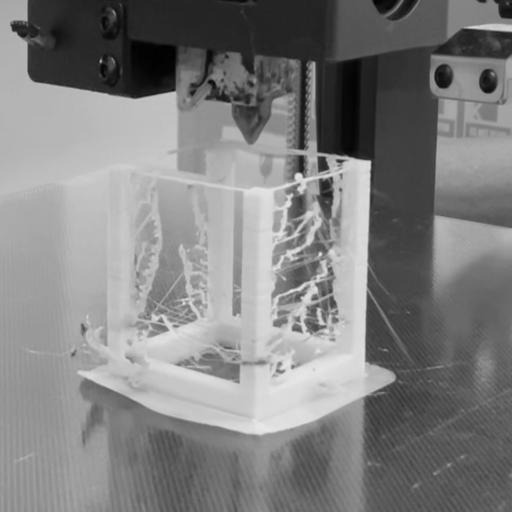spaghetti_and_stringing: (135, 174, 246, 382), (269, 170, 347, 374), (75, 313, 124, 366)
warp: (73, 375, 261, 453)
